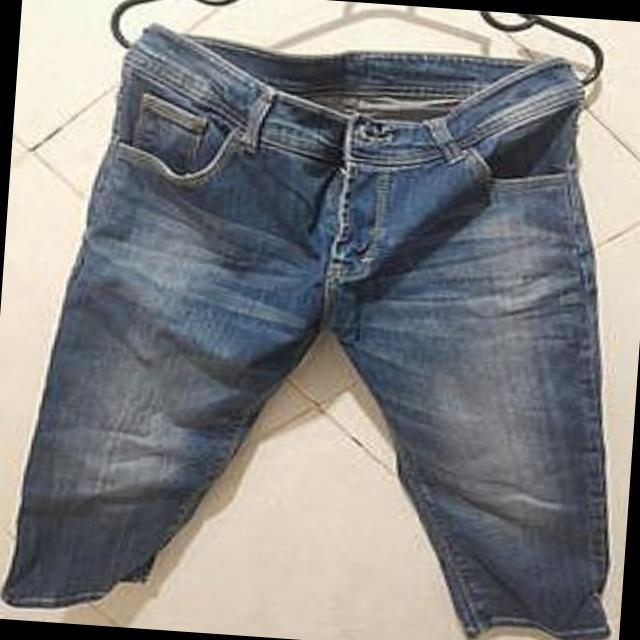TROUSER: (3, 9, 640, 640)
